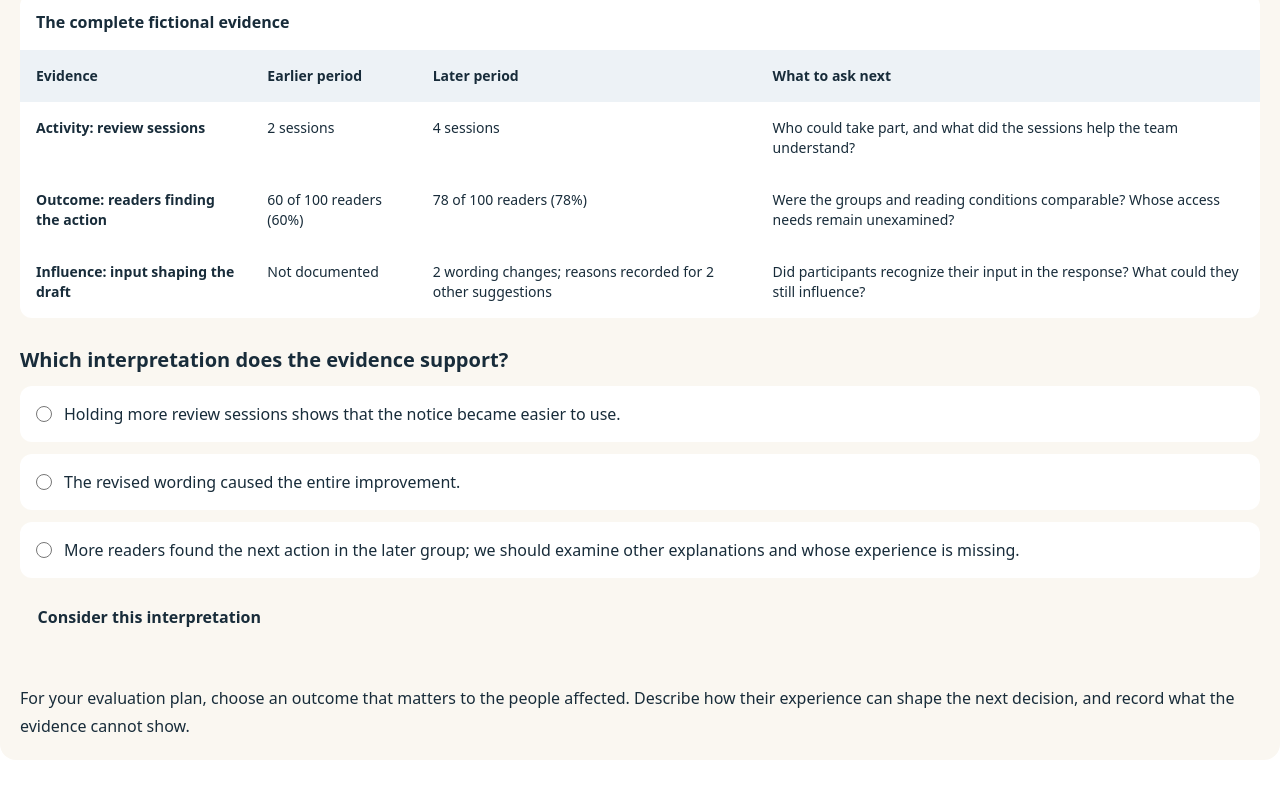
it: lets readers reconsider activity, causation and supported evidence without recording a score
The width and height of the screenshot is (1280, 792).
(page scrolled)
Check: the button "Consider this interpretation" is disabled, box [20, 594, 278, 640]
Click the radio button labelled "Holding more review sessions" at point(44, 414), box [36, 406, 52, 422]
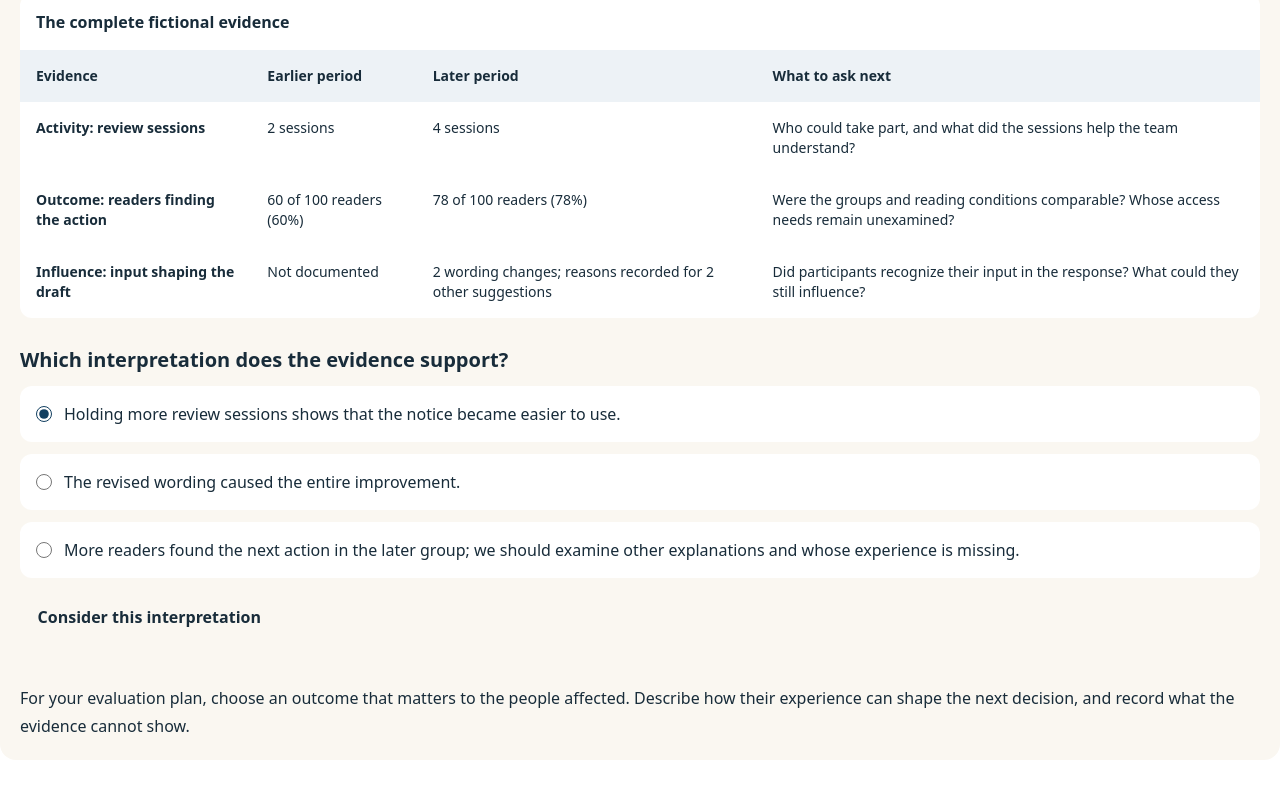
Click the button "Consider this interpretation" at point(149, 618), box [20, 594, 278, 640]
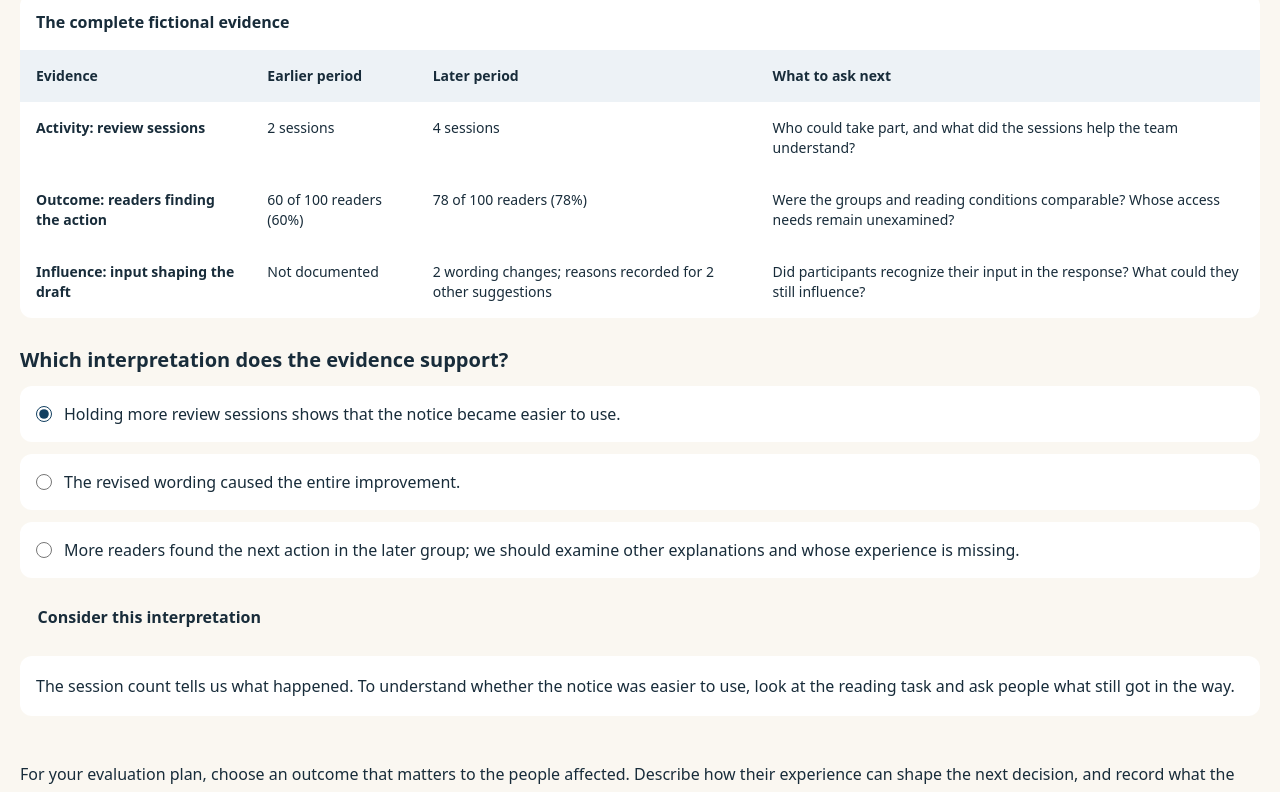
Check: the text "The session count tells us what happened" is shown, box [36, 676, 1235, 698]
Click the radio button labelled "The revised wording caused the entire improvement." at point(44, 482), box [36, 474, 52, 490]
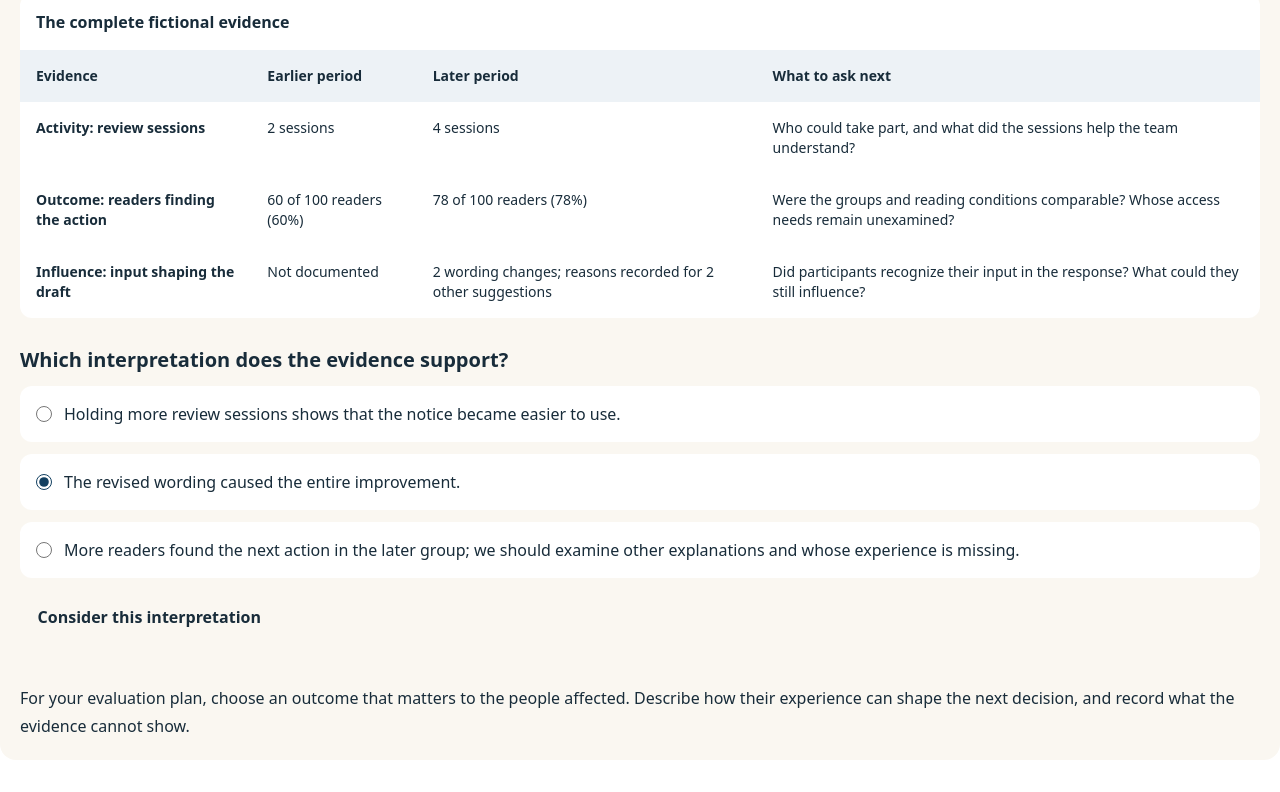
Check: the text "The session count tells us what happened" is gone
Click the button "Consider this interpretation" at point(149, 618), box [20, 594, 278, 640]
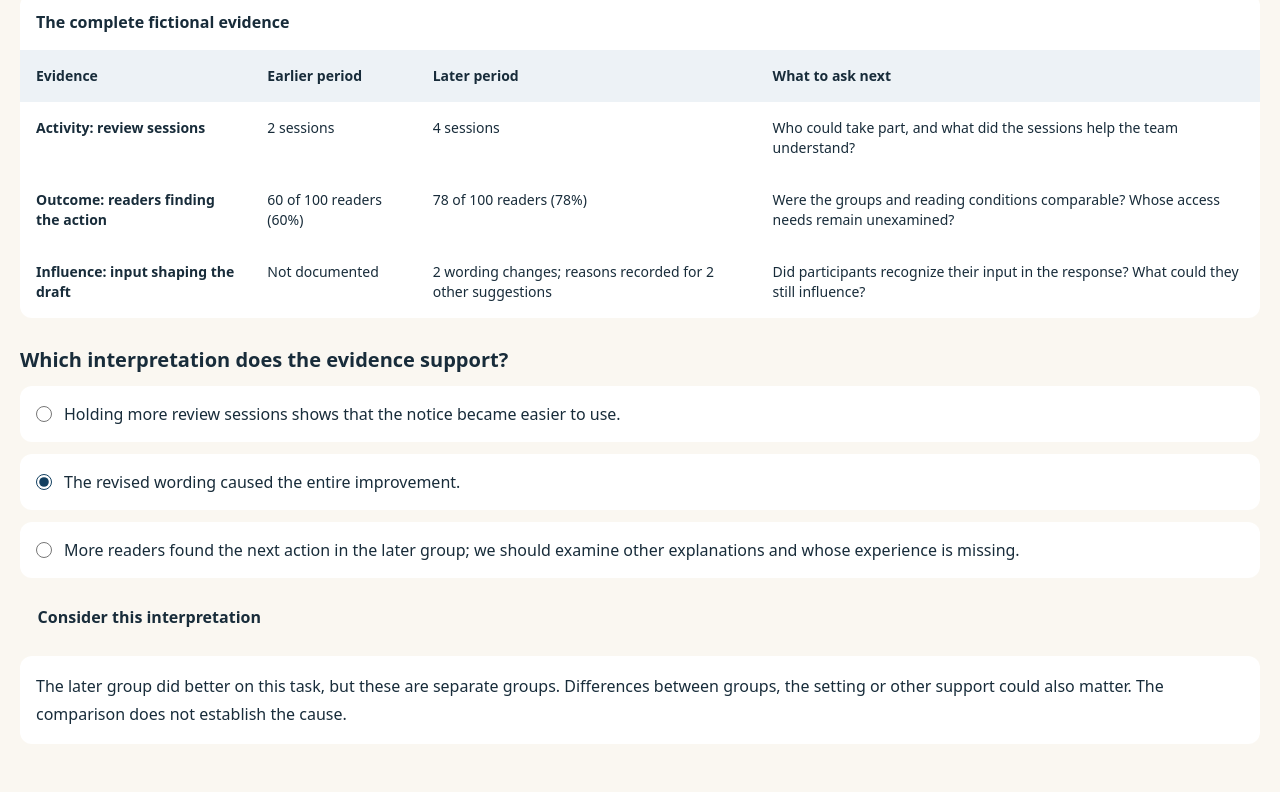
Check: the text "The comparison does not establish the cause" is shown, box [36, 676, 1164, 726]
Click the radio button labelled "More readers found the next action" at point(44, 550), box [36, 542, 52, 558]
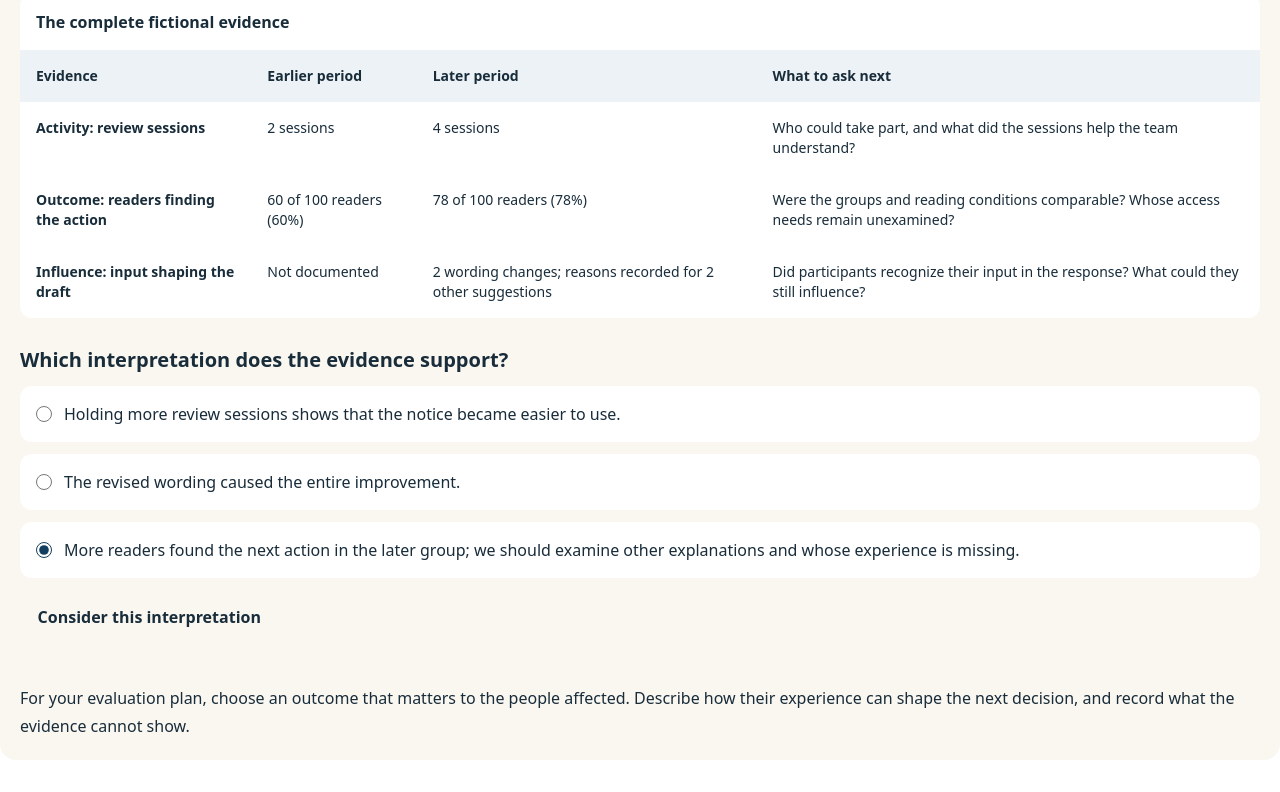
Click the button "Consider this interpretation" at point(149, 618), box [20, 594, 278, 640]
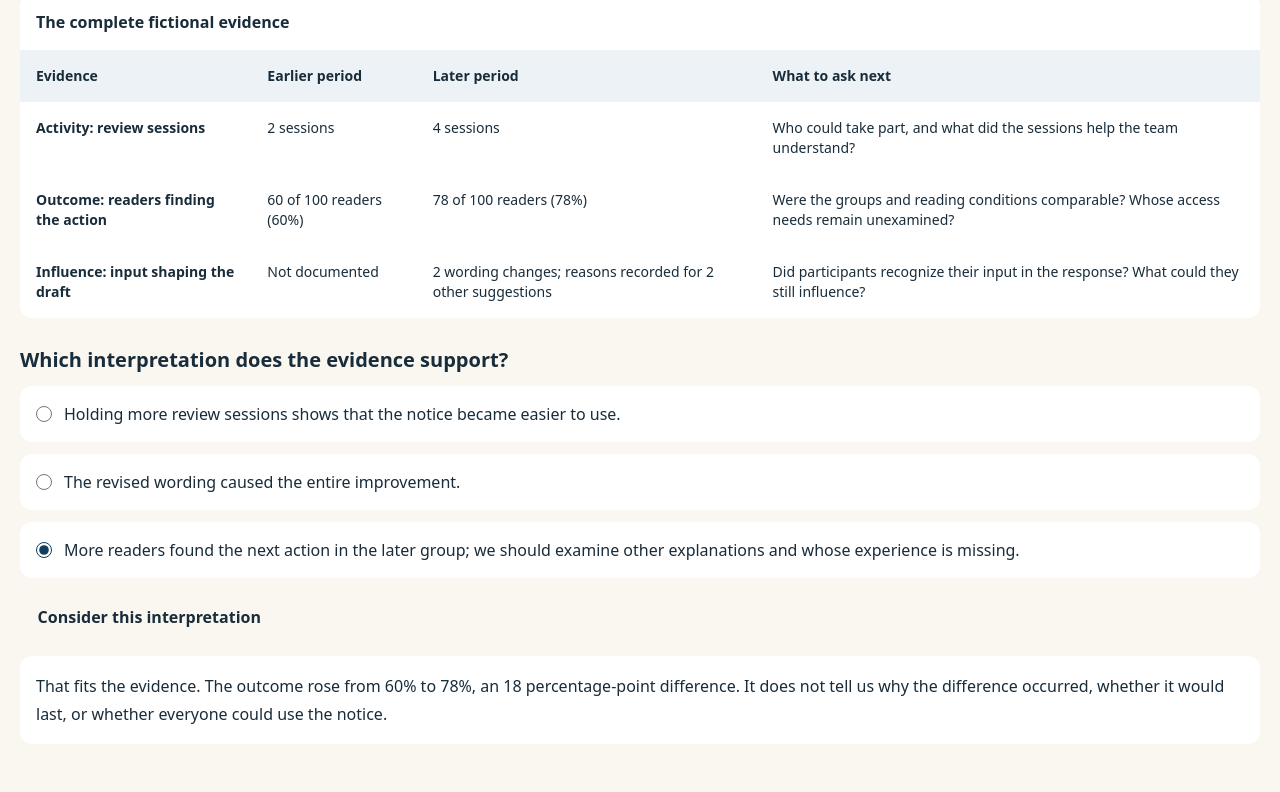
Check: the text "an 18 percentage-point difference" is shown, box [36, 676, 1224, 726]
